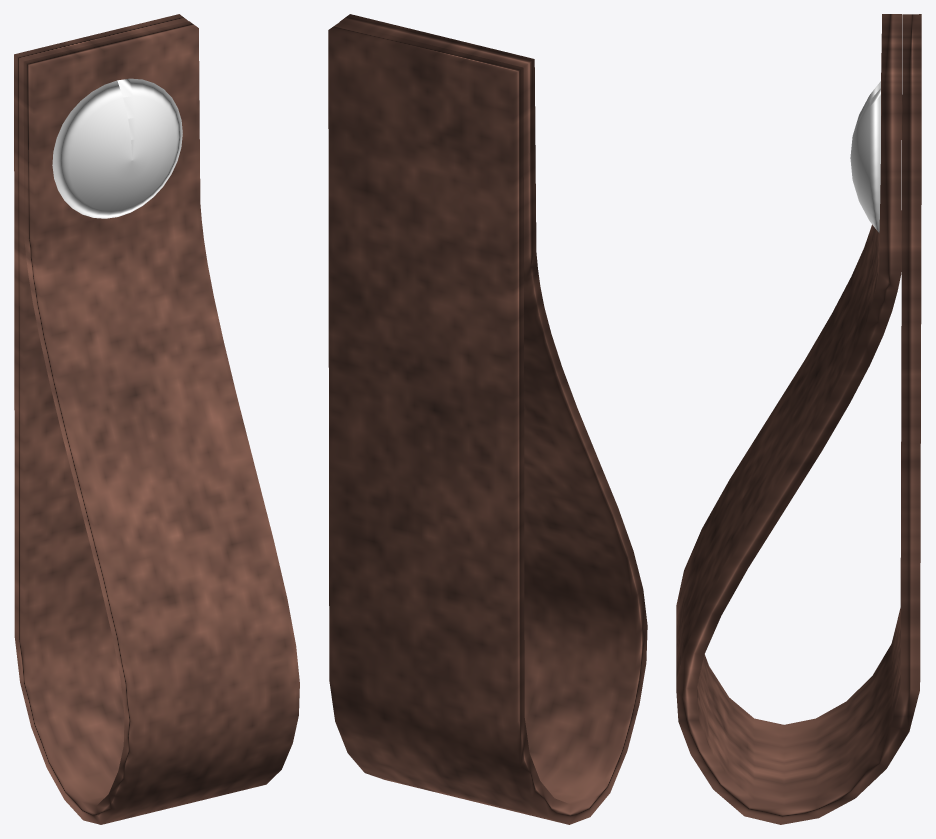
The model's file is 977.fixed.glb.
3 views of the same model, side by side, from view 1: azimuth 30°, elevation 25°; view 2: azimuth 150°, elevation 25°; view 3: azimuth 270°, elevation 25° (orthographic). The views are drawn at different scales.
Parts seen in each view (by area): view 1: leather, chrome03; view 2: leather; view 3: leather, chrome03.
Part boxes in pixels (box(x1,y1,x2,y2)): leather: box(14, 14, 299, 824); chrome03: box(52, 78, 182, 218); leather: box(328, 14, 647, 824); leather: box(676, 14, 921, 824); chrome03: box(850, 81, 880, 232).
Bounding box in the file's own units: 0.02 × 0.0827 × 0.0252.
2 materials, 1 textured.
